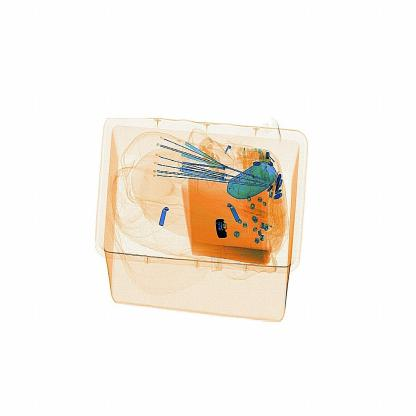wrench: (209, 207, 233, 248)
